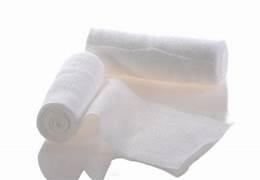cotton: (38, 30, 228, 179), (39, 79, 227, 179), (89, 80, 227, 175), (86, 29, 226, 119), (86, 29, 226, 83), (37, 53, 103, 140), (111, 76, 226, 120), (38, 117, 114, 179)
